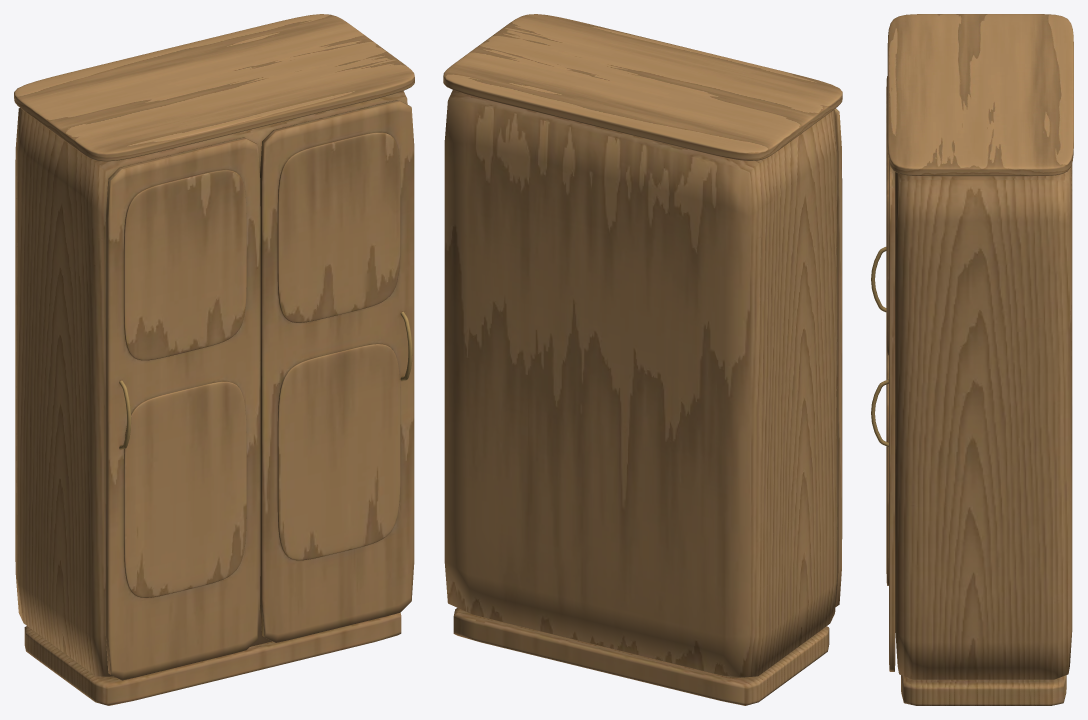
File: oak-two-door.glb
The picture shows the model from 3 angles, left to right: view 1: azimuth 30°, elevation 25°; view 2: azimuth 150°, elevation 25°; view 3: azimuth 270°, elevation 25°; orthographic projection. The views are drawn at different scales.
Visible parts, largest first — view 1: wood_v, wood_x, brass_handle; view 2: wood_v, wood_x; view 3: wood_v, wood_x, brass_handle.
Part boxes in pixels (box(x1,y1,x2,y2)): wood_v: box(15, 91, 414, 705); wood_x: box(14, 14, 414, 161); brass_handle: box(119, 311, 412, 449); wood_v: box(444, 90, 842, 705); wood_x: box(443, 14, 842, 160); wood_v: box(886, 76, 1072, 705); wood_x: box(887, 14, 1073, 176); brass_handle: box(871, 247, 888, 446).
Bounding box in the file's own units: 1.24 × 2.04 × 0.6865.
3 materials, 3 textured.
